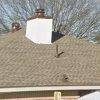Chimney: (24, 5, 53, 43)
